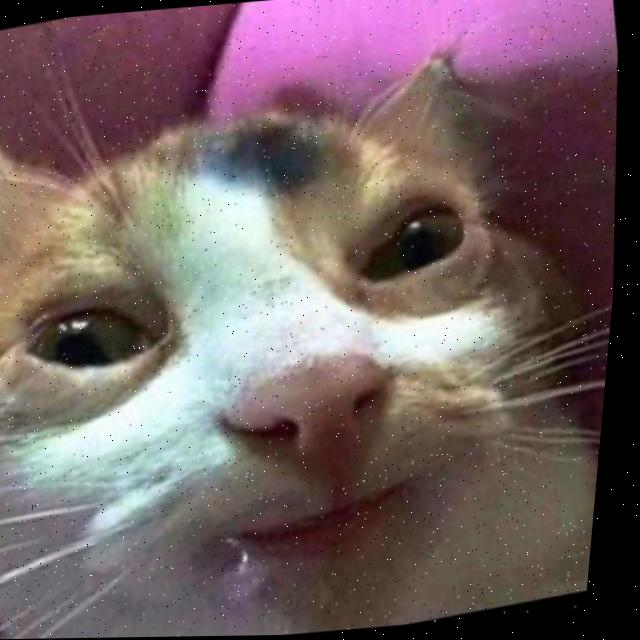Cats: (0, 4, 639, 640)
